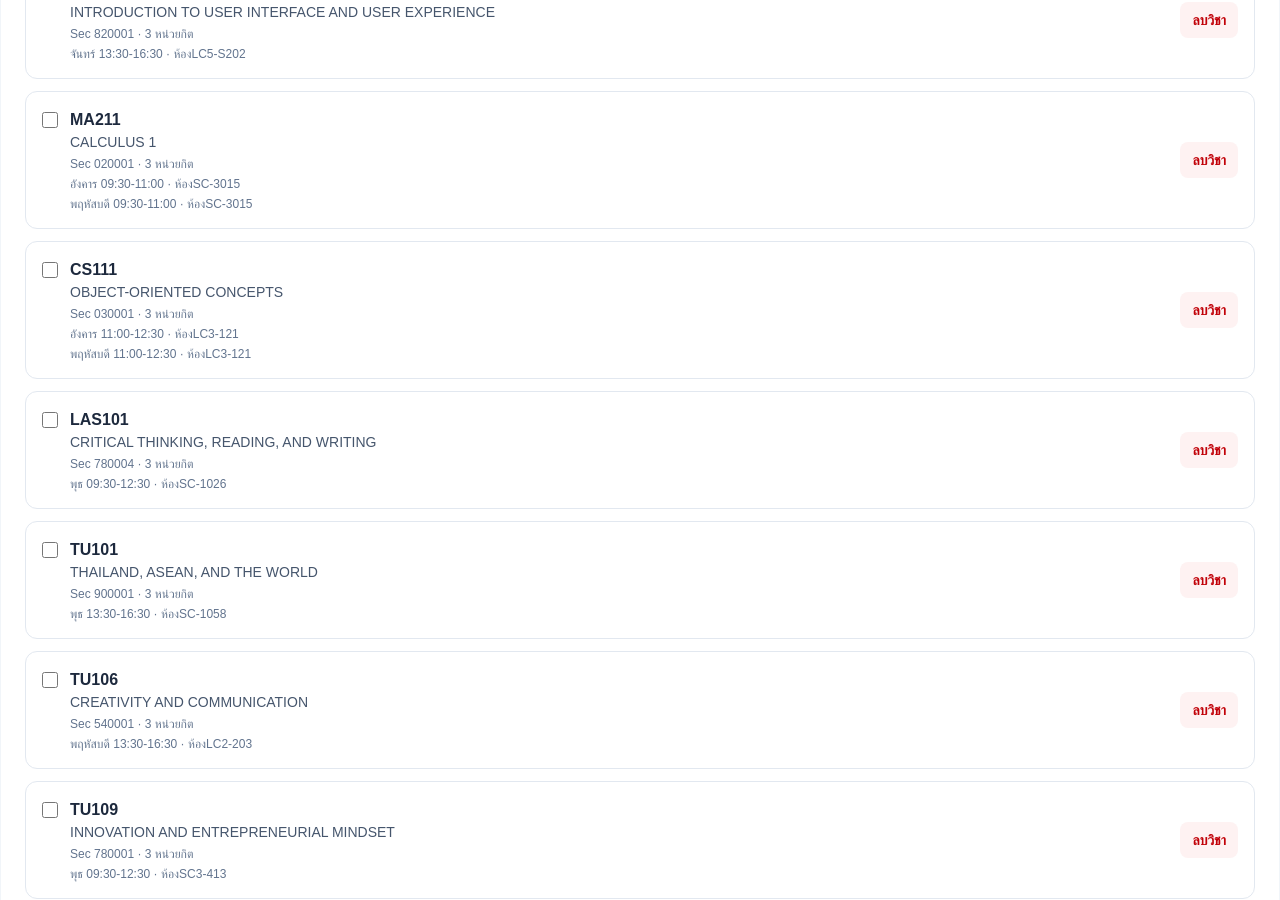
Test: US2-T07 ลบวิชาจากตารางเรียนจำลอง (UI + Unit Test UI) › ลบวิชาที่เวลาชนกันออกแล้ว แถบแจ้งเตือนเวลาชนหายไป และปุ่ม PNG กลับมากดได้
(page scrolled)
Click the button "ลบวิชา" in the row of "CRITICAL THINKING, READING, AND WRITING" at point(1209, 450), box [1180, 432, 1238, 468]
(page scrolled)
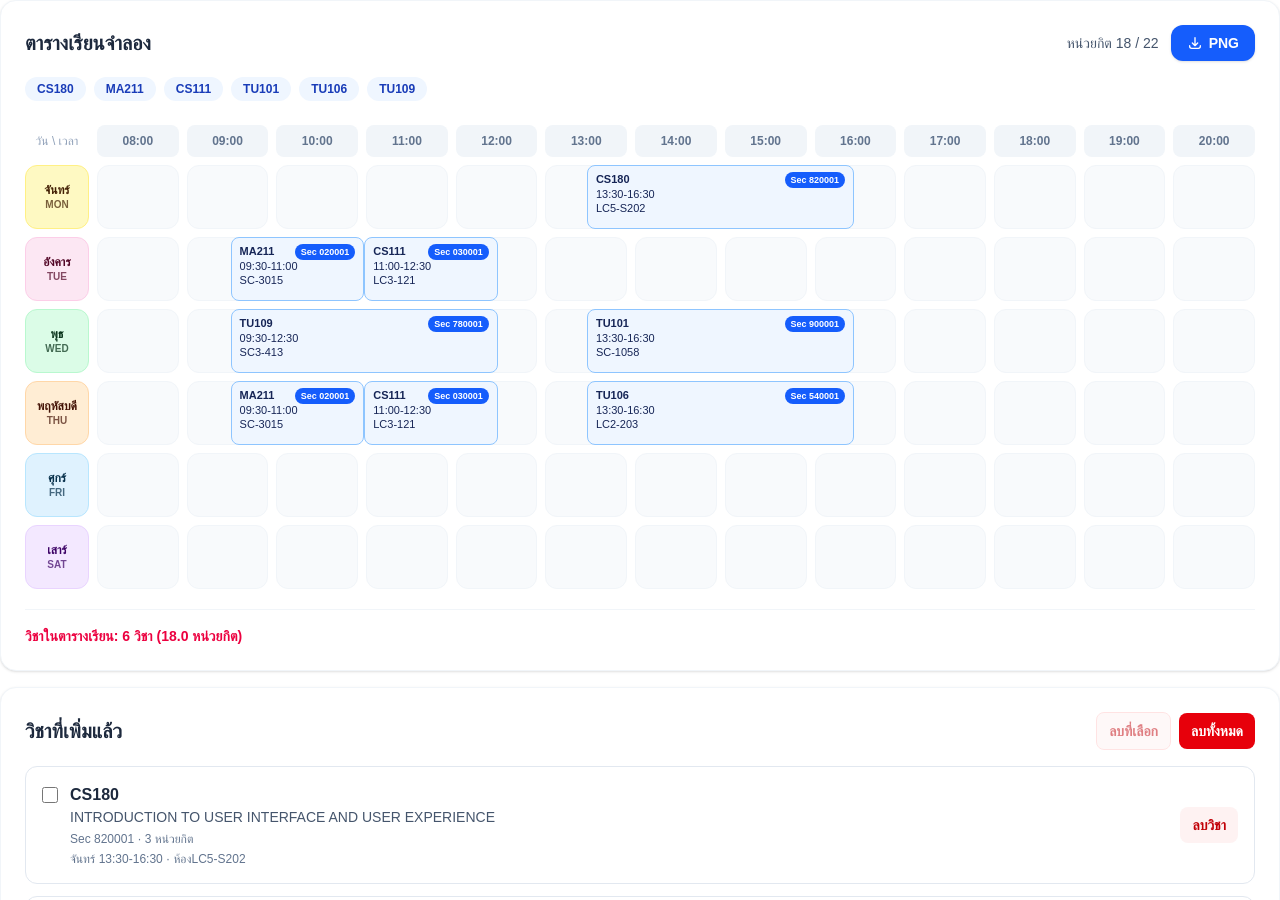
Now the button "PNG" is enabled, box [1171, 25, 1255, 61]
